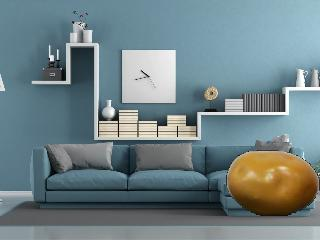potato: (223, 146, 320, 220)
